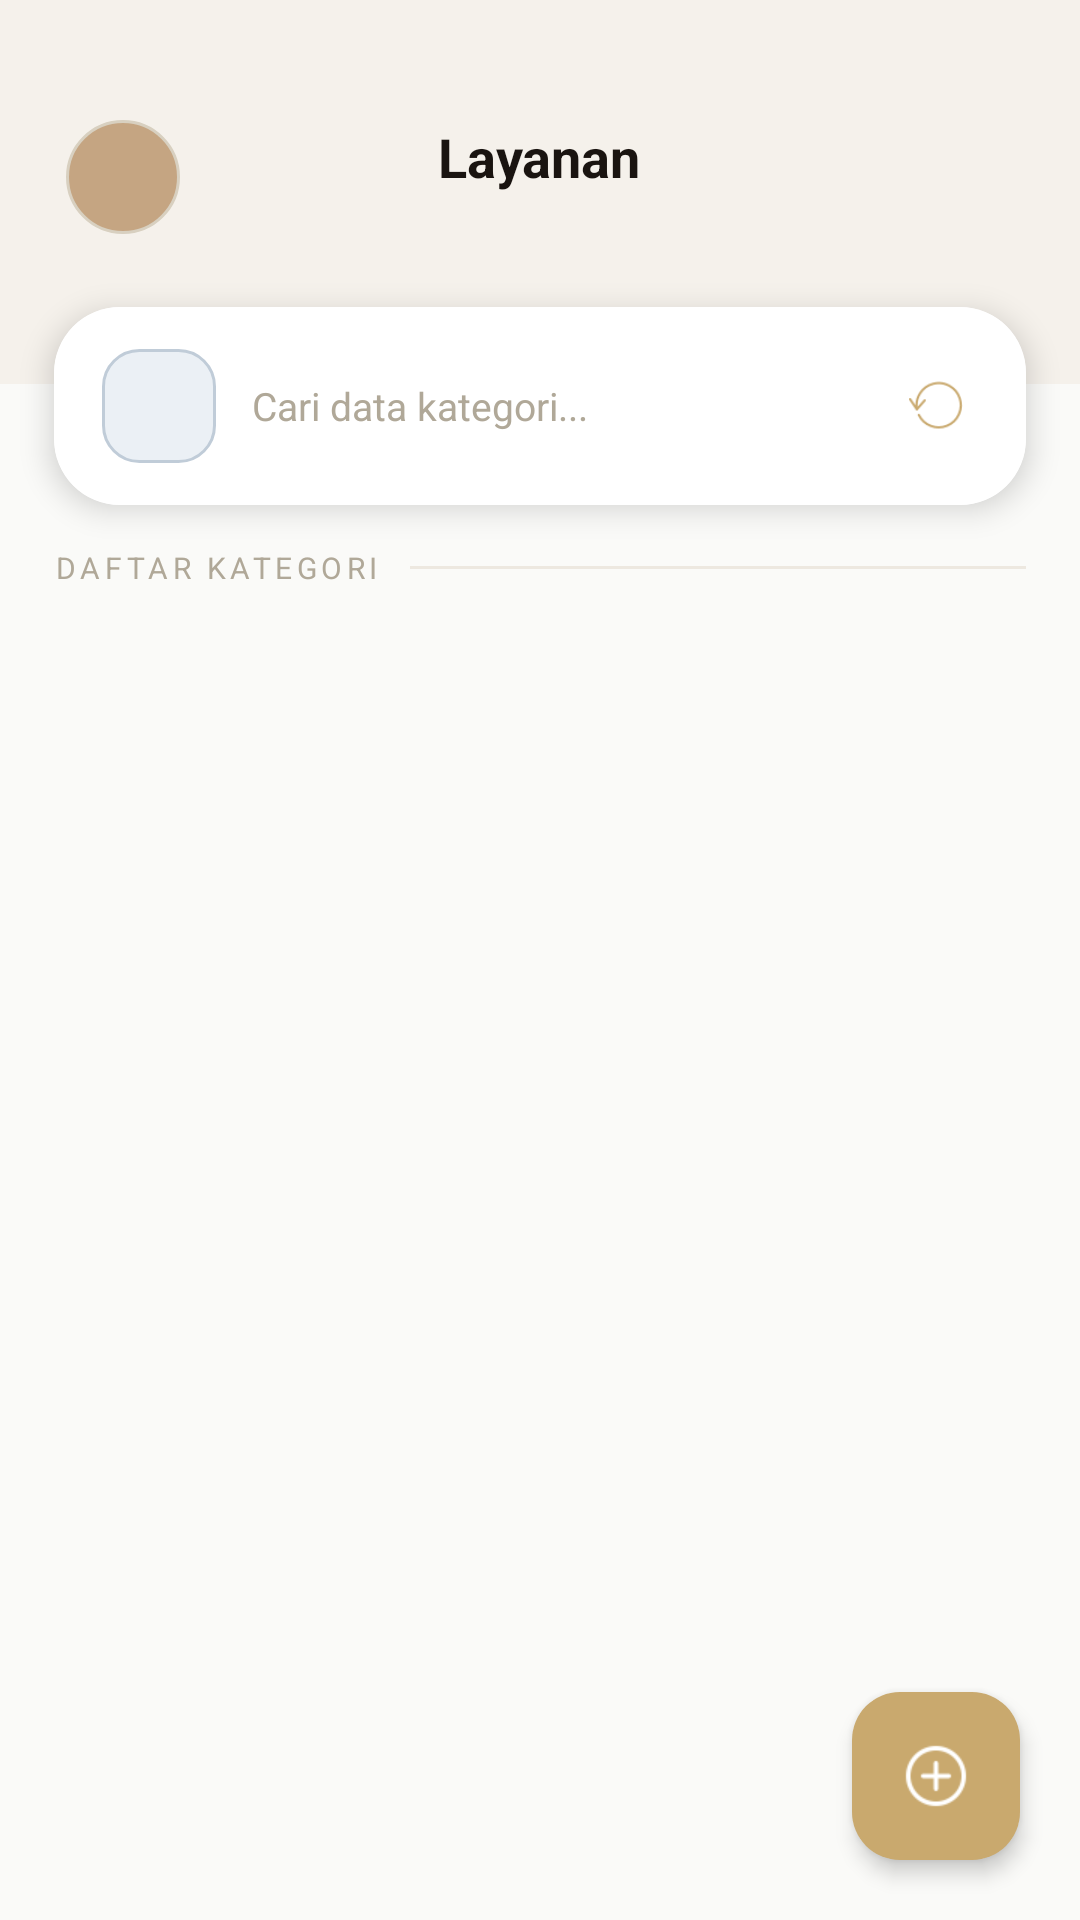

Point at icon controls on the screen. Image size 1080x1920, points as [x,y].
Reload: [935,405]
Tambah Kategori: [936,1776]
